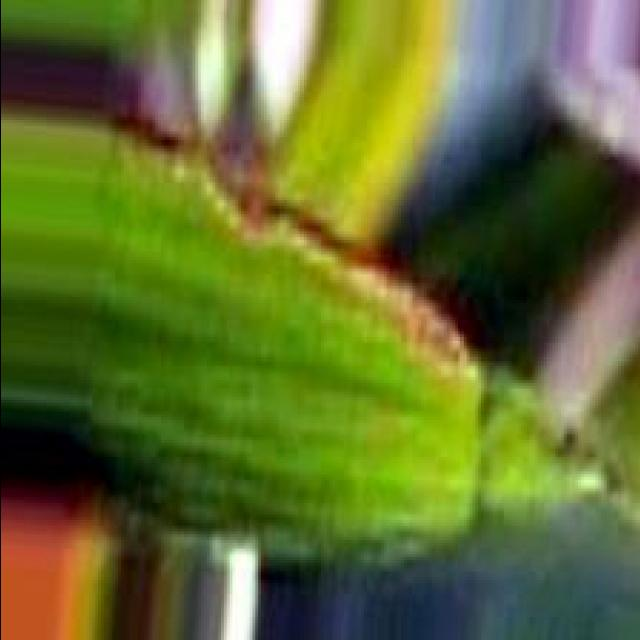Unhealthy: (108, 108, 469, 371)
